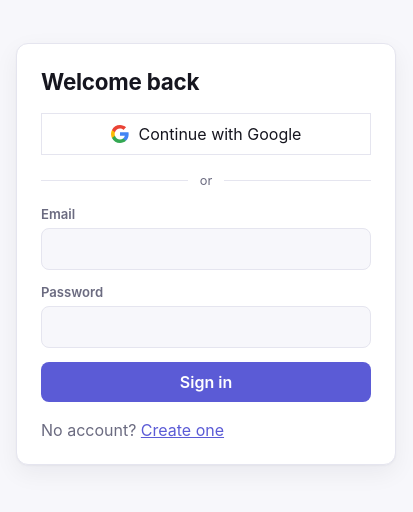
Test: LoginPage › shows a generic message for a non-ApiError failure
In the field labelled "Email": (206, 249) [41,228,371,270], type "a@b.com"
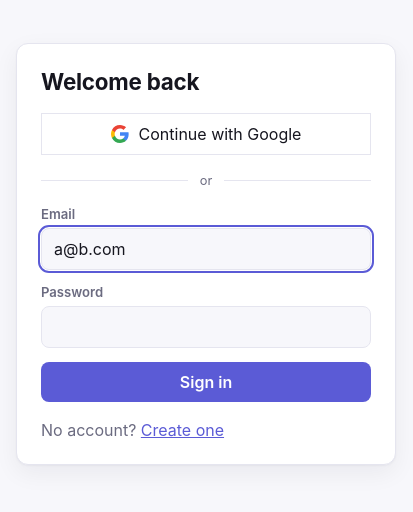
In the password field labelled "Password": (206, 327) [41,306,371,348], type "whatever"
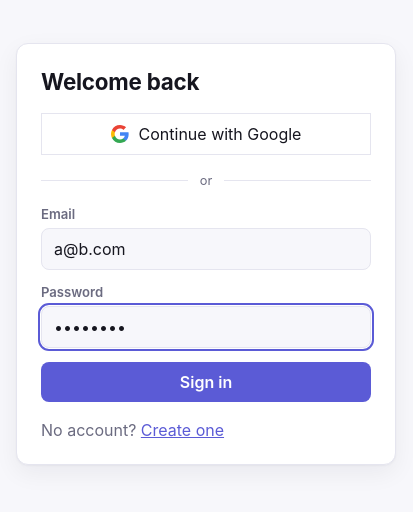
Click the button "Sign in": click(206, 382) [41,362,371,402]
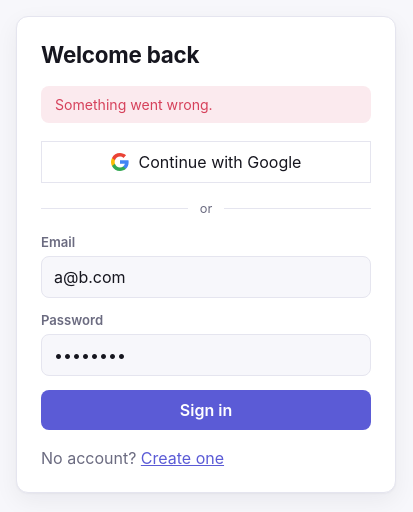
Now the text "Something went wrong." is shown, box [41,86,371,122]
